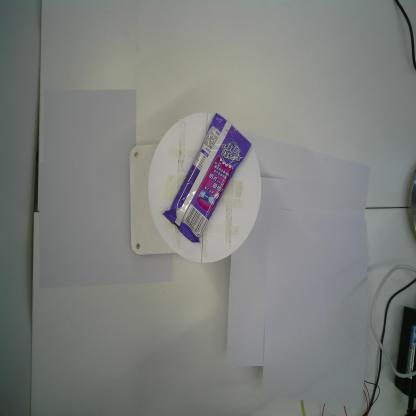Candy: (162, 112, 252, 244)
